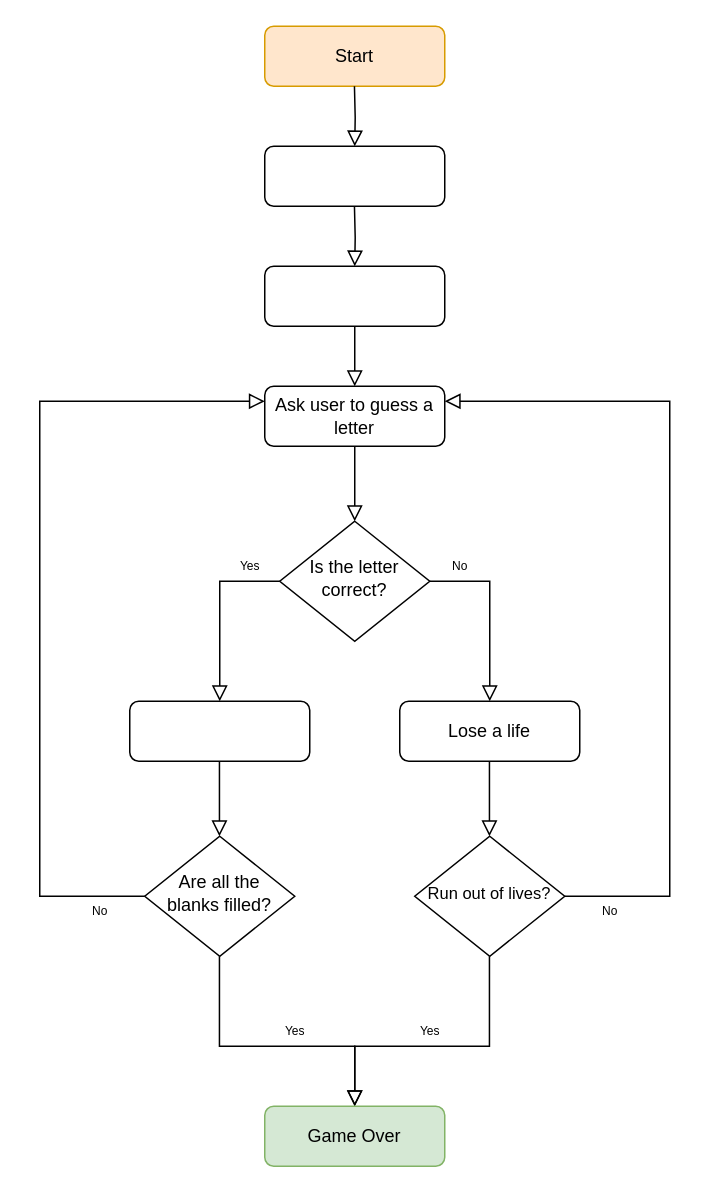
The diagram is 711 pixels wide and 1193 high, and some of its shapes have lost their labels. The shapes that lost their labels are listed below. From the top down, each one's centre as x and y in pixels, then its label:
the point at 354,175: Generate a random word
the point at 354,295: Generate as many blanks as letters in word
the point at 219,730: Replace blank with letter
